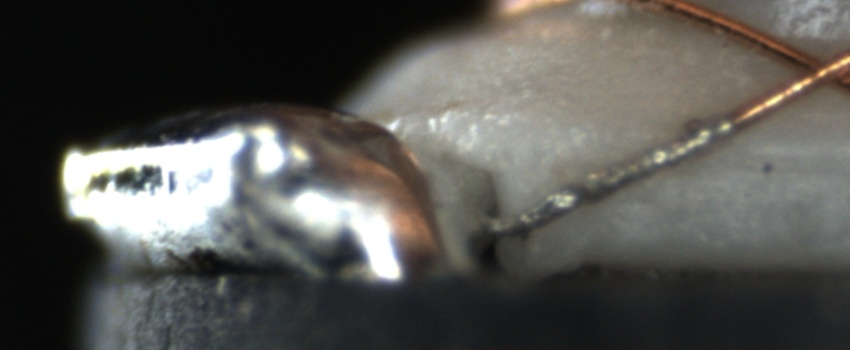CL: (776, 39, 849, 99)
DL: (661, 131, 850, 189)
TS: (490, 118, 734, 237)
TTCW: (483, 78, 813, 240)
